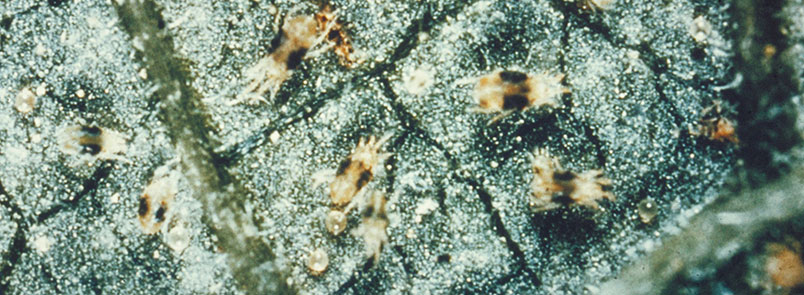Mites: (448, 44, 553, 151), (259, 12, 333, 119), (313, 141, 402, 215), (512, 153, 588, 233)
